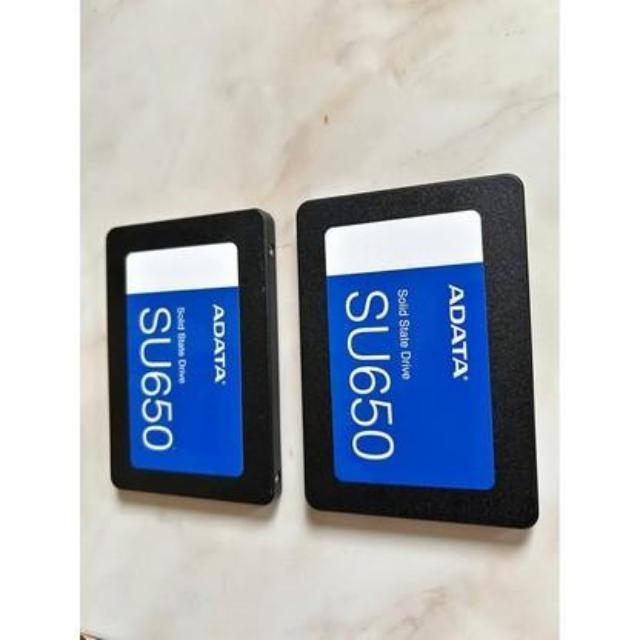DISK: (290, 170, 542, 538), (104, 208, 290, 517)
